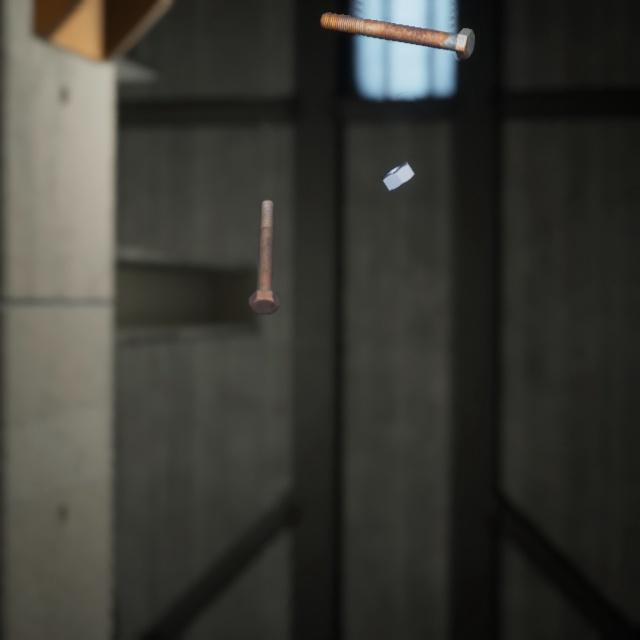bolt: (316, 1, 479, 56), (244, 178, 284, 302), (260, 614, 292, 640)
nut: (377, 144, 418, 181)
